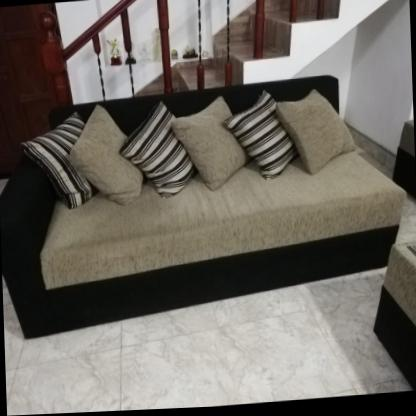Sofa: (4, 72, 404, 338)
